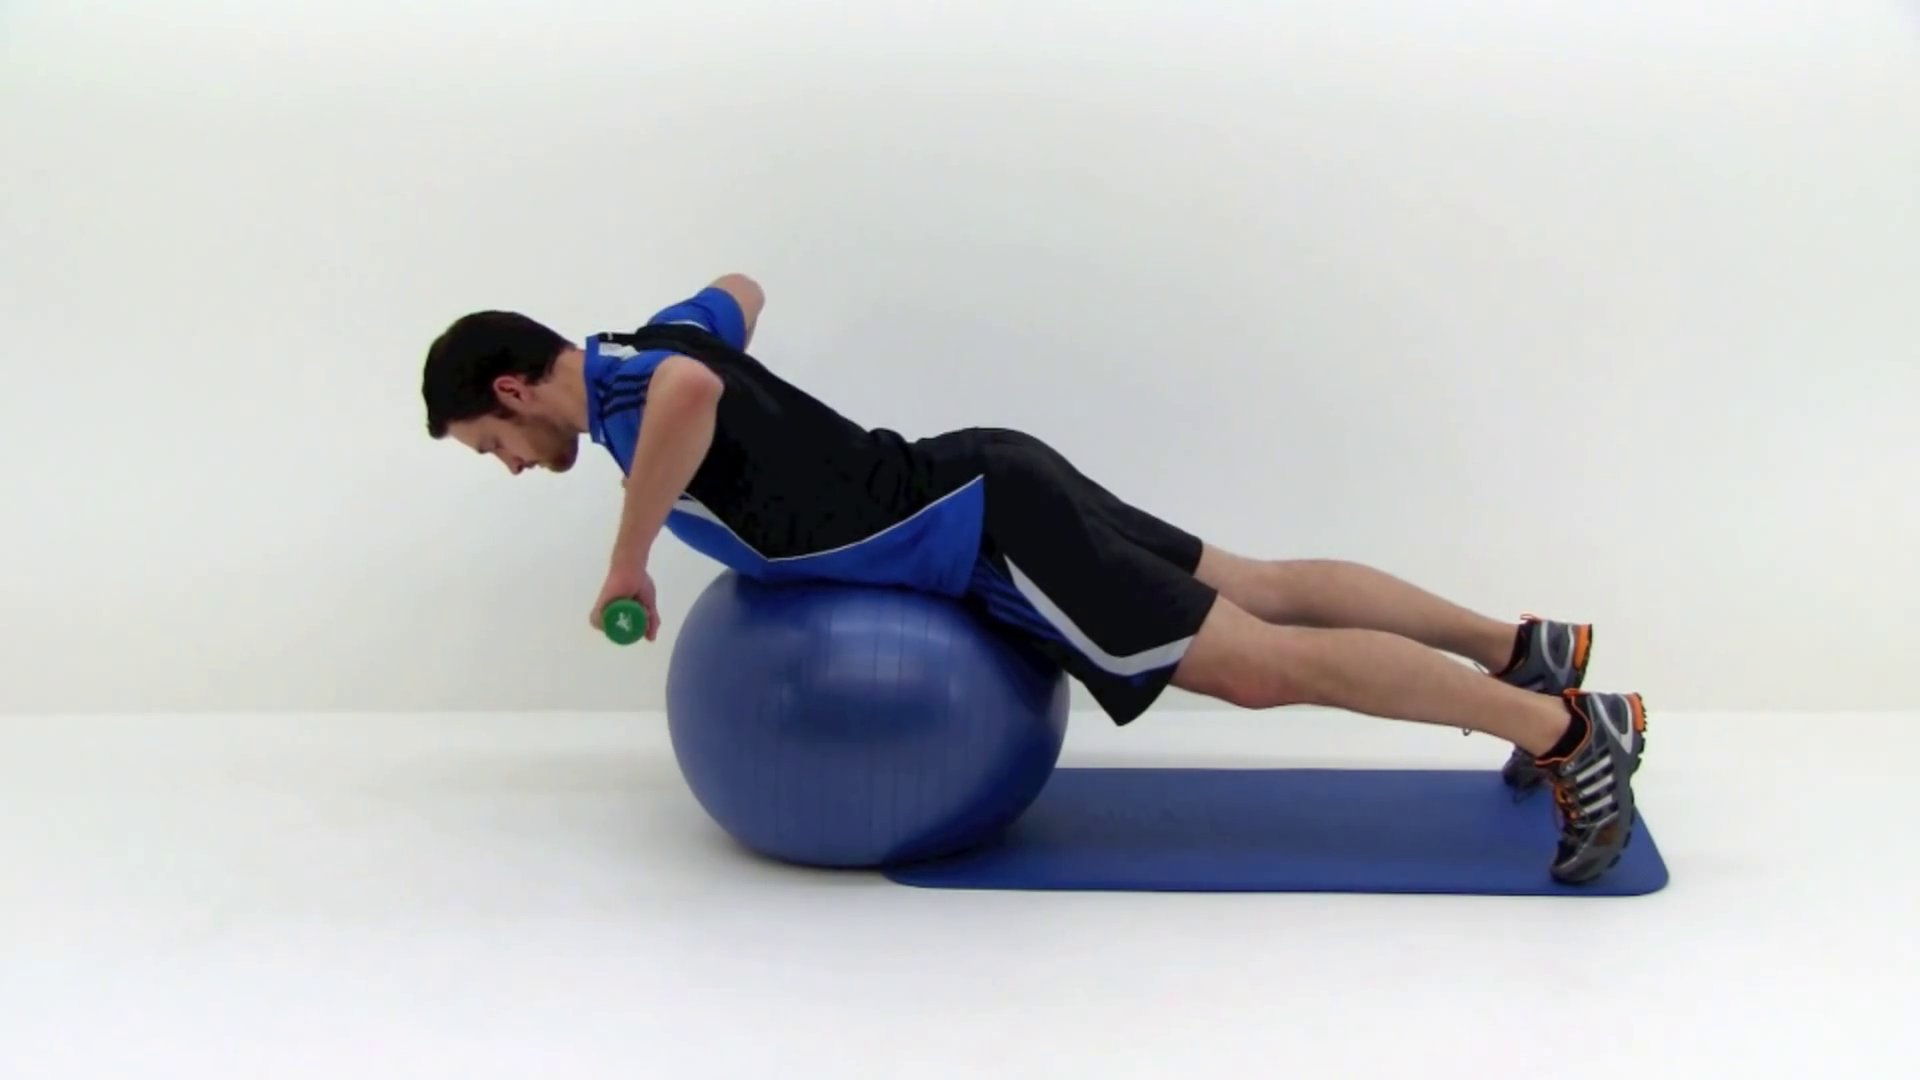yogaball: (644, 546, 1095, 876)
